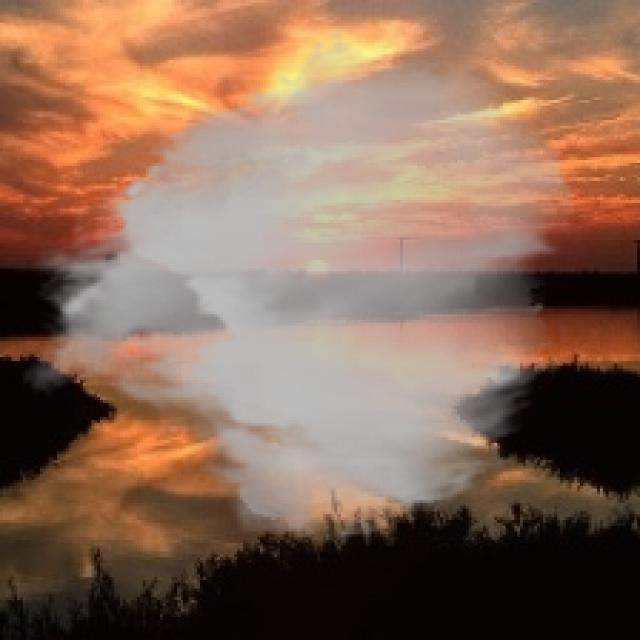smoke: (20, 28, 580, 543)
